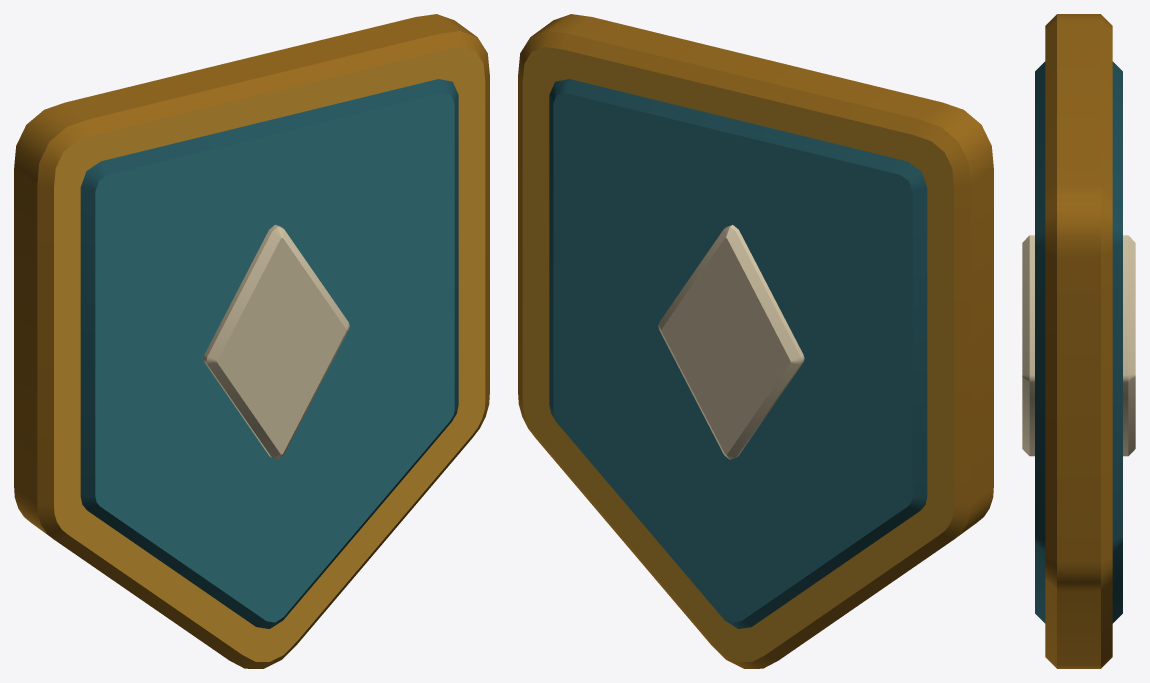
File: Badge_38.glb
3 views of the same model, side by side, from view 1: azimuth 30°, elevation 25°; view 2: azimuth 150°, elevation 25°; view 3: azimuth 270°, elevation 25° (orthographic). The views are drawn at different scales.
Visible parts, largest first — view 1: Badge_38; view 2: Badge_38; view 3: Badge_38.
Part boxes in pixels (x1,y1,x2,y2): Badge_38: [14, 14, 489, 668]; Badge_38: [518, 14, 993, 668]; Badge_38: [1022, 14, 1135, 668].
Bounding box in the file's own units: 1.92 × 2.4 × 0.44.
